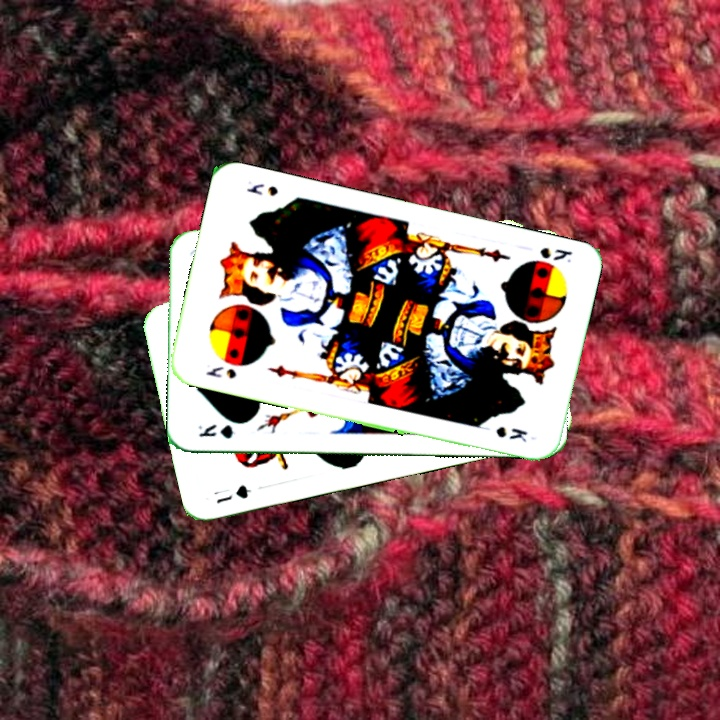GK: (194, 421, 239, 441)
GU: (212, 481, 253, 506)
SK: (536, 243, 575, 265), (202, 362, 239, 382)
